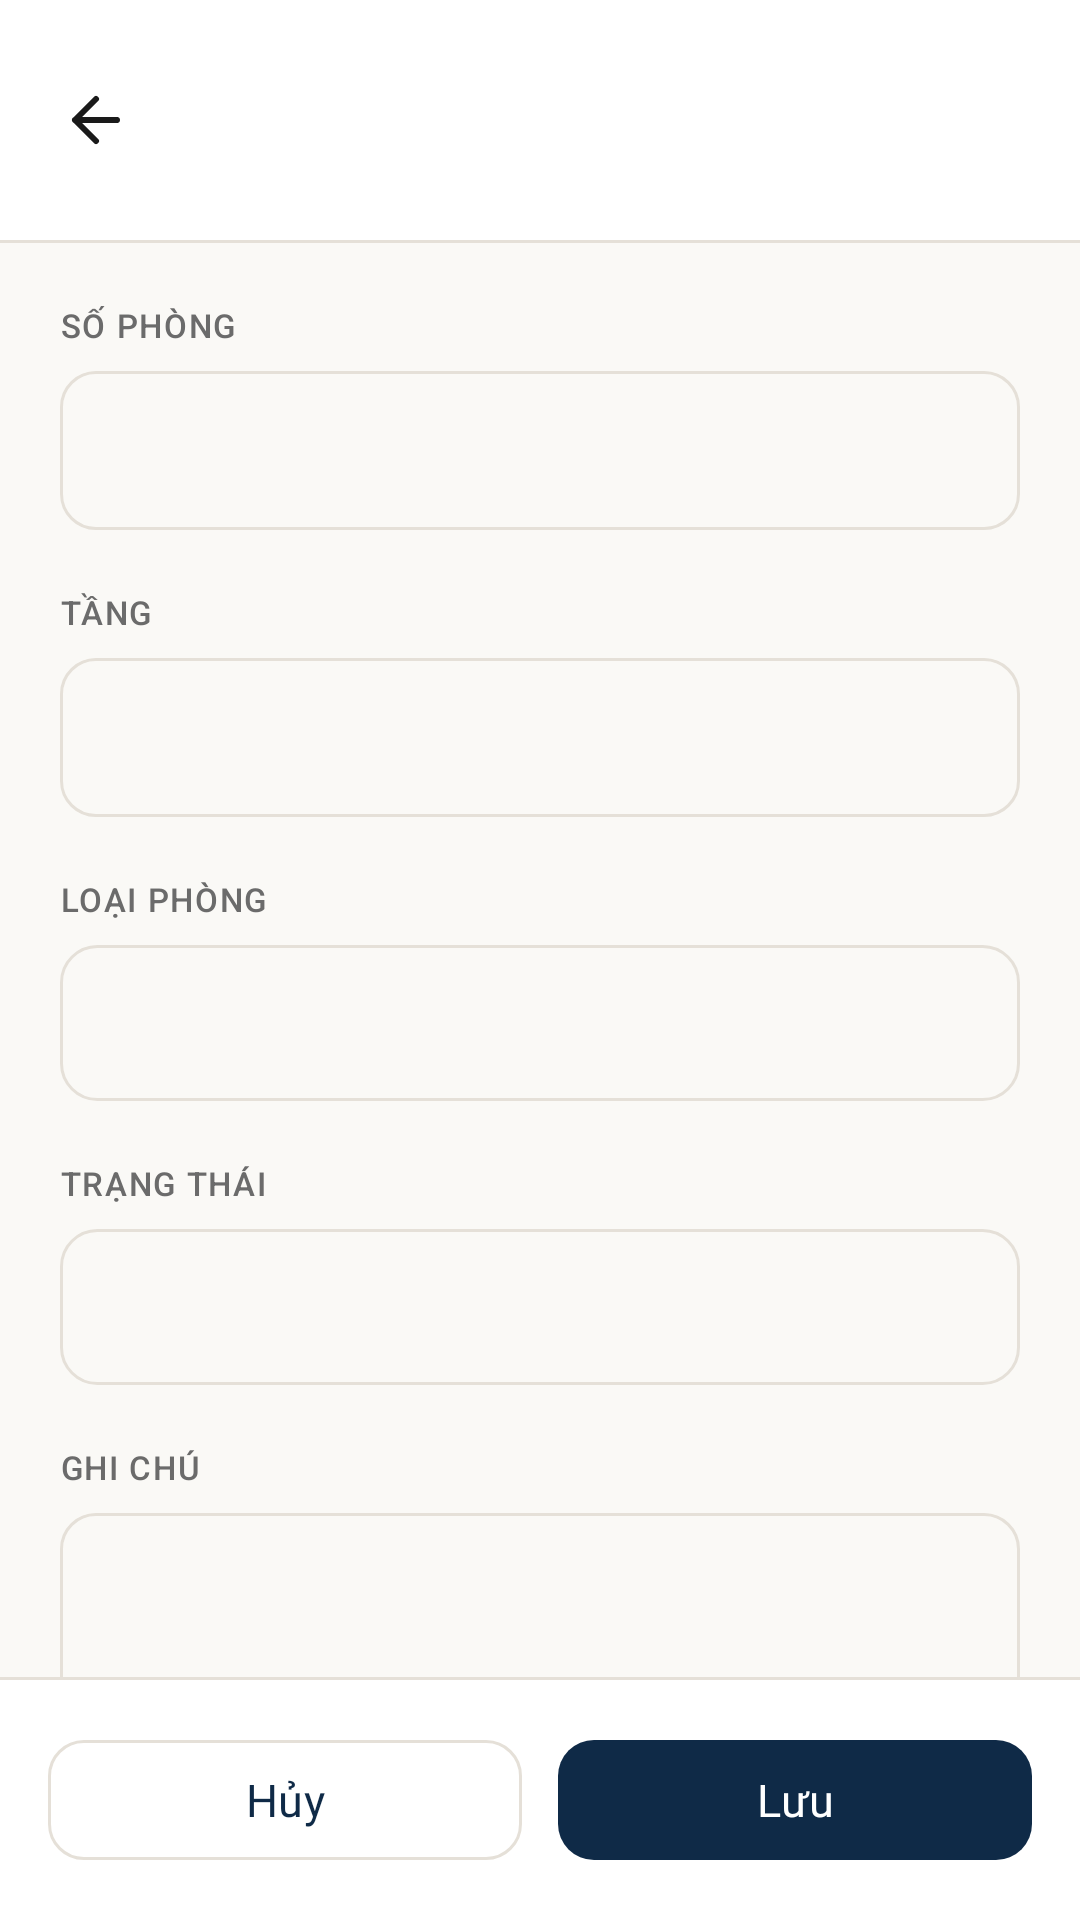

Locate icon controls on the screen. Image size 1080×1920, boxes as (x1, y1, x2, y2).
Quay lại: (72, 96, 120, 144)
